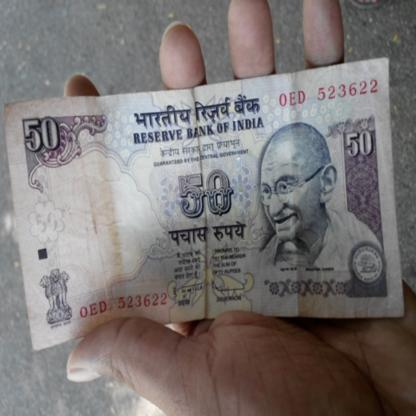Old50Front: (5, 57, 404, 350)
